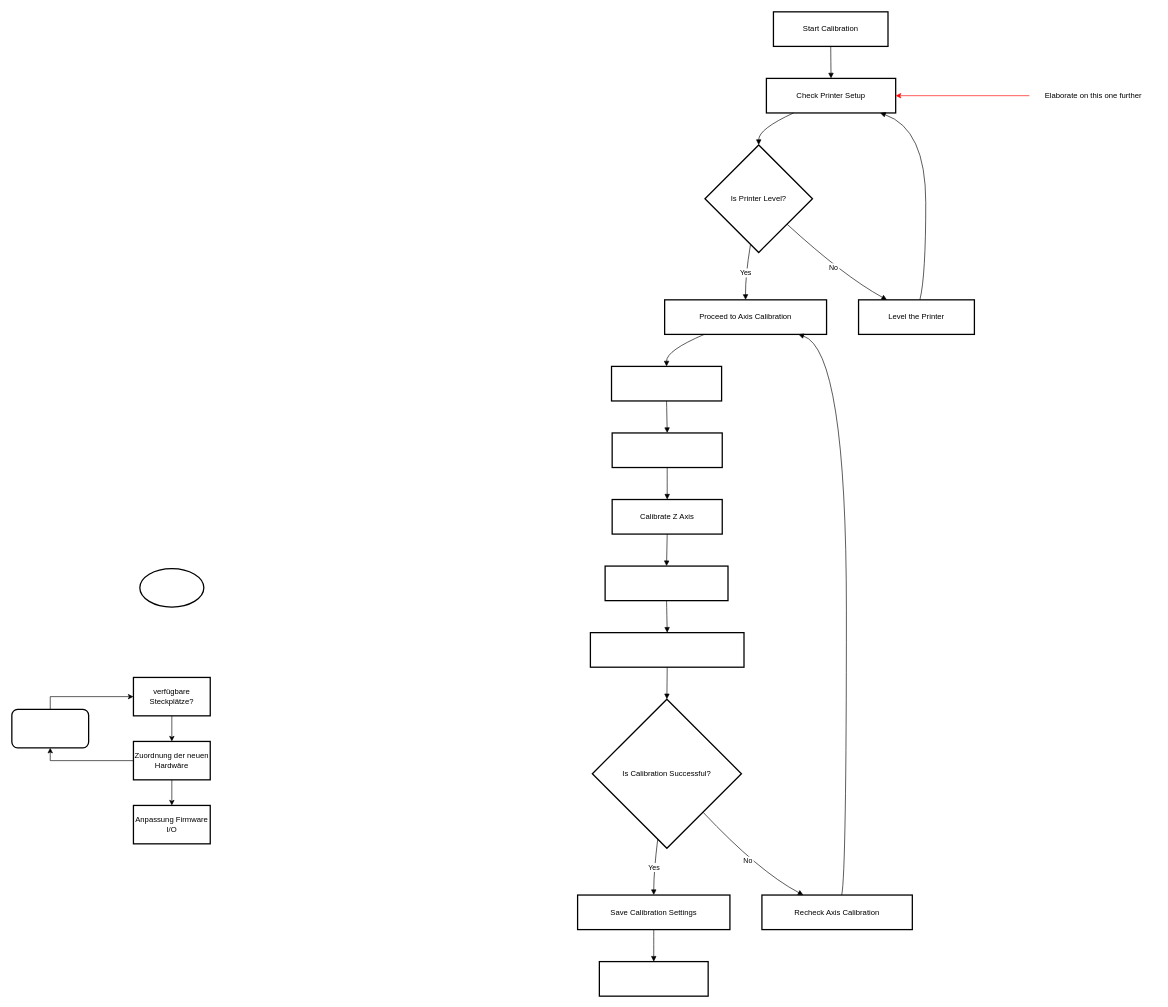
The diagram is 1168 pixels wide and 1007 high, and some of its shapes have lost their labels. Each missing label, with the centre of its shape:
Analyse Software: (171,587)
Calibrate Additional Axes: (666,650)
Calibrate Extruder: (666,583)
Calibrate X Axis: (666,383)
Calibrate Y Axis: (667,450)
End Calibration: (653,978)
